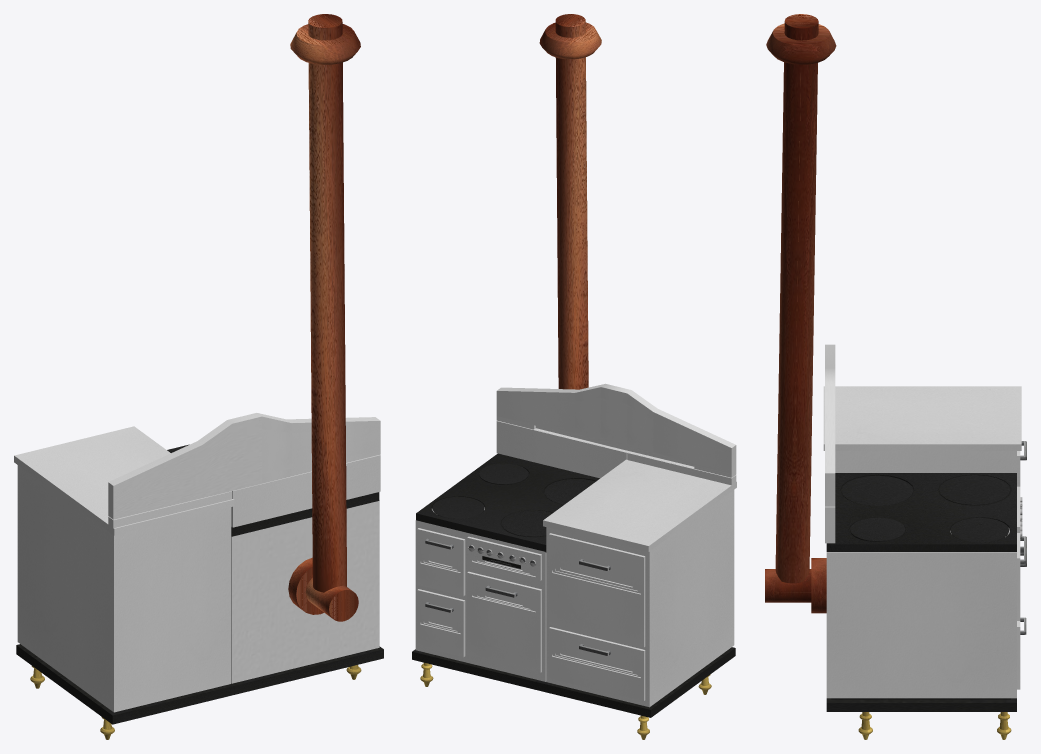
Rendered from Kitchen 1920s stove.fbx.
3 views of the same model, side by side, from view 1: azimuth 30°, elevation 25°; view 2: azimuth 150°, elevation 25°; view 3: azimuth 270°, elevation 25° (orthographic). The views are drawn at different scales.
Visible parts, largest first — view 1: pCube1032, pCylinder145, pCube1013, pCube1034, pCube1040, pCube1030, pCube1033, pCylinder146, pCylinder143, polySurface593, pCube1042, pCylinder144; view 2: pCube1032, pCube1034, pCylinder145, pCube1040, pCube1035, pCube1038, polySurface593, pCube1036, pCube1033, pCube1013, pCube1030, pCube1037 (+8 smaller); view 3: pCube1013, pCylinder145, pCube1040, polySurface593, pCube1032, pCube1030, pCylinder146, pCube1034, pCylinder167, pCylinder165, pCylinder143, pCylinder168 (+2 smaller).
Part boxes in pixels (x1,y1,x2,y2): pCube1032: (17, 465, 231, 712); pCylinder145: (308, 14, 346, 592); pCube1013: (231, 500, 379, 683); pCube1034: (108, 413, 380, 519); pCube1040: (14, 426, 234, 535); pCube1030: (16, 644, 383, 724); pCube1033: (231, 455, 380, 527); pCylinder146: (290, 24, 360, 64); pCylinder143: (305, 577, 358, 621); polySurface593: (167, 444, 379, 536); pCube1042: (108, 491, 232, 528); pCylinder144: (288, 557, 323, 614); pCube1032: (546, 490, 734, 707); pCube1034: (496, 383, 736, 477); pCylinder145: (555, 14, 588, 389); pCube1040: (543, 459, 736, 551); pCube1035: (549, 533, 645, 647); pCube1038: (467, 571, 541, 672); polySurface593: (416, 453, 599, 552); pCube1036: (549, 627, 645, 700); pCube1033: (496, 420, 627, 478); pCube1013: (415, 507, 546, 681); pCube1030: (412, 647, 735, 717); pCube1037: (417, 589, 465, 657); pCube1013: (826, 528, 1016, 698); pCylinder145: (775, 14, 818, 583); pCube1040: (823, 386, 1021, 450); polySurface593: (826, 473, 1016, 551); pCube1032: (835, 451, 1016, 472); pCube1030: (826, 698, 1016, 711); pCylinder146: (766, 23, 836, 64); pCube1034: (825, 344, 835, 506); pCylinder167: (841, 475, 913, 505); pCylinder165: (939, 475, 1010, 505); pCylinder143: (765, 569, 811, 602); pCylinder168: (950, 517, 1009, 542).
Size of the model in its own units: 207 by 507 by 175.
